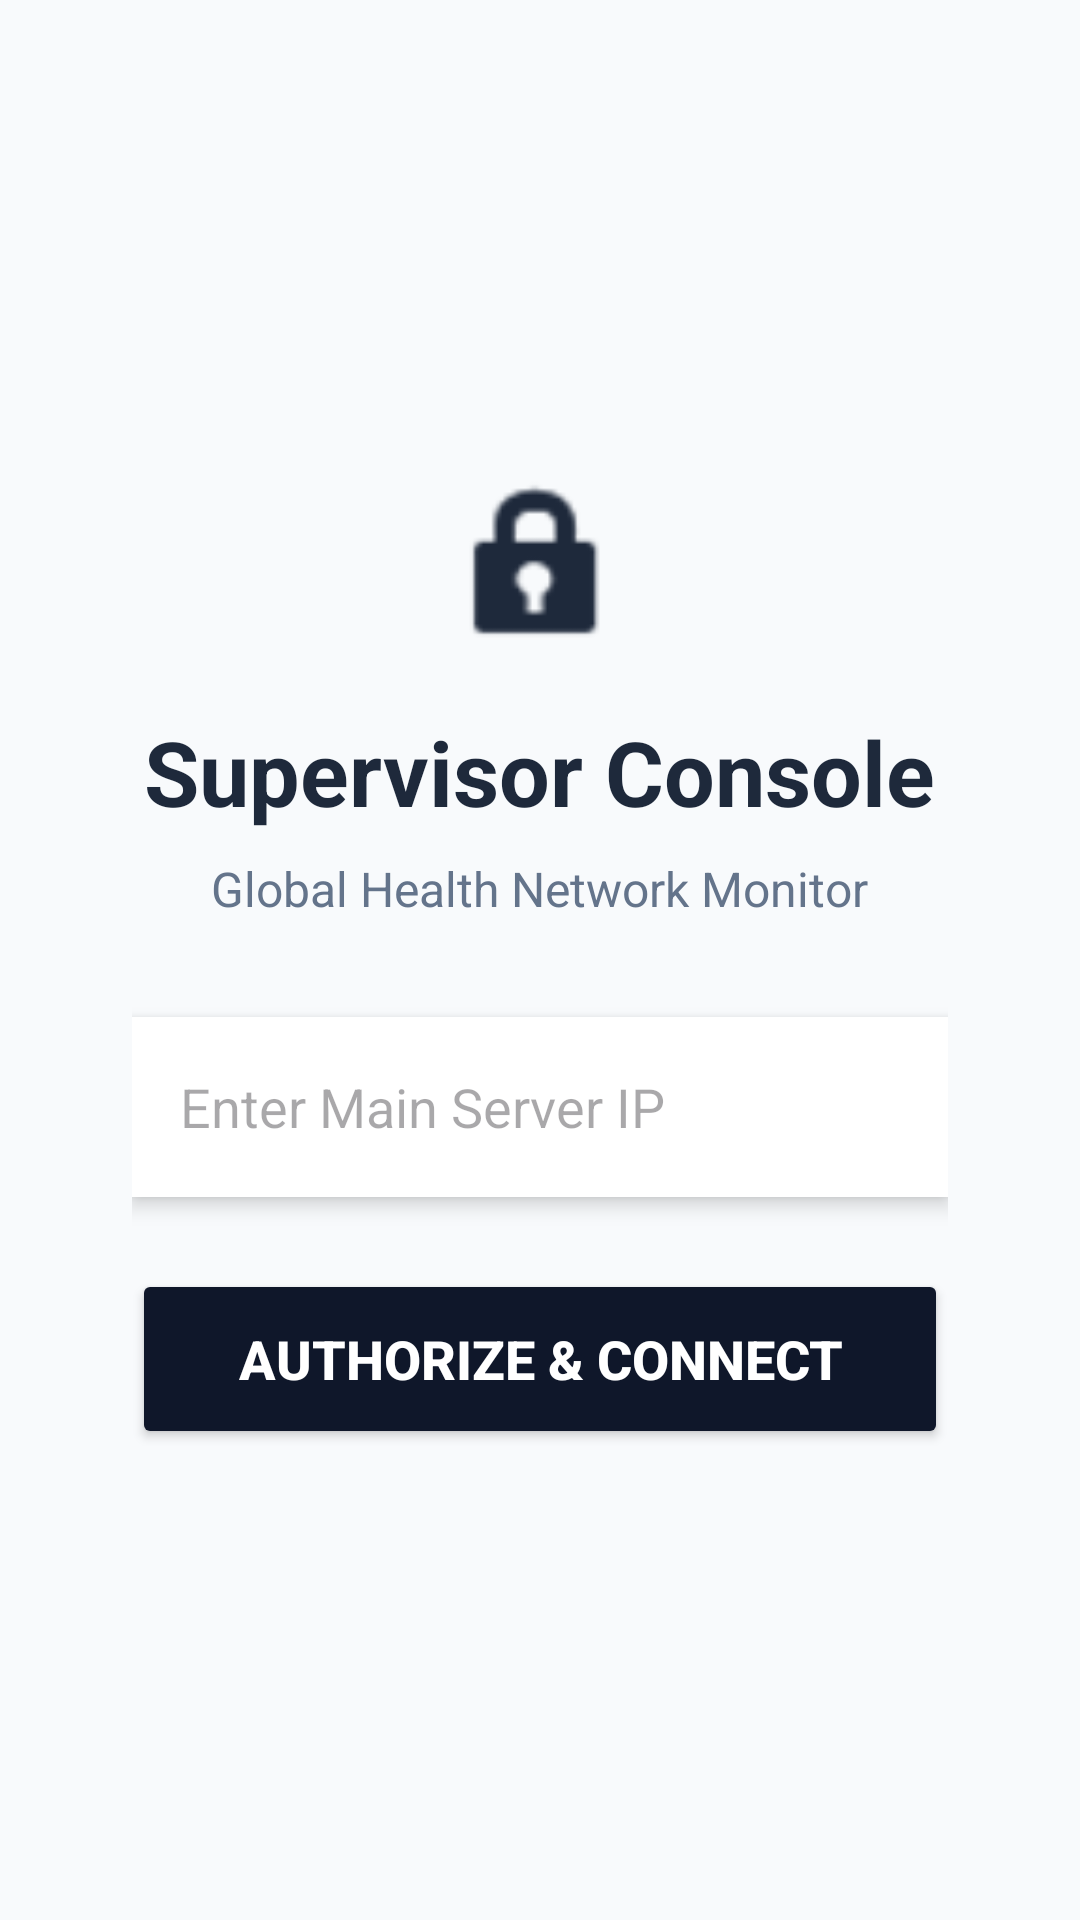

Locate icon controls on the screen. Image size 1080*1920, boxes as [x1=x1, y1=y1, x2=x2, y2=y2].
Security Icon: [x1=472, y1=487, x2=599, y2=635]
